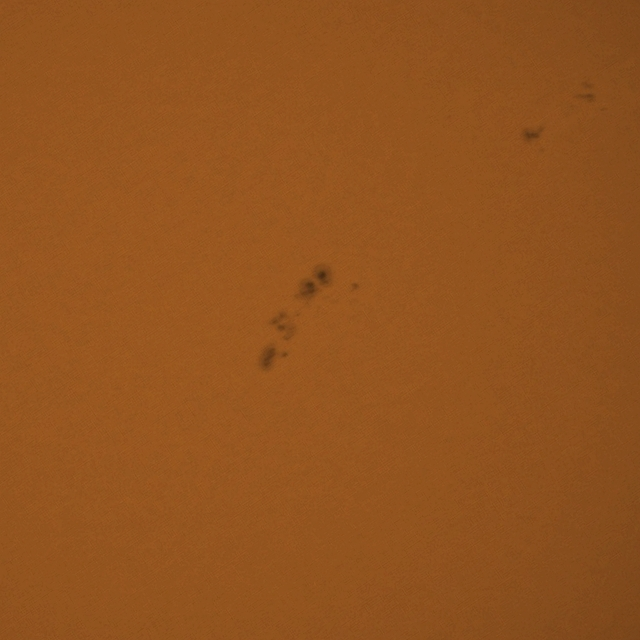sunspot: (270, 307, 300, 345), (262, 341, 288, 370), (349, 282, 360, 293)
